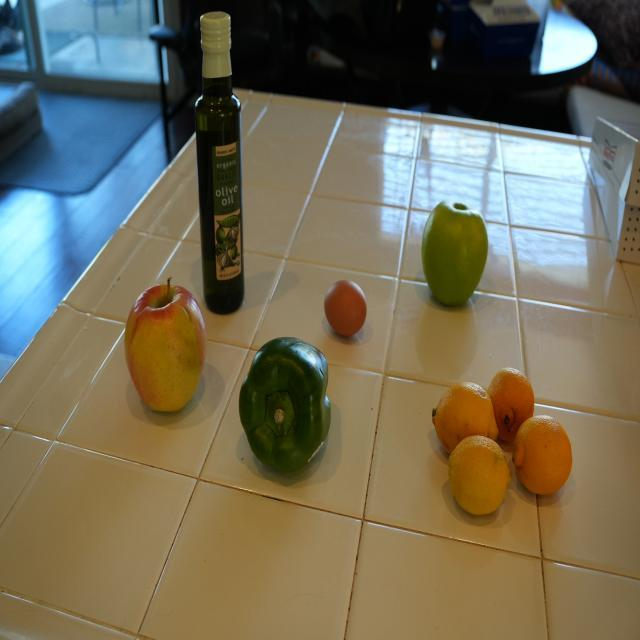bell_pepper: (224, 329, 346, 481)
egg: (322, 271, 372, 343)
